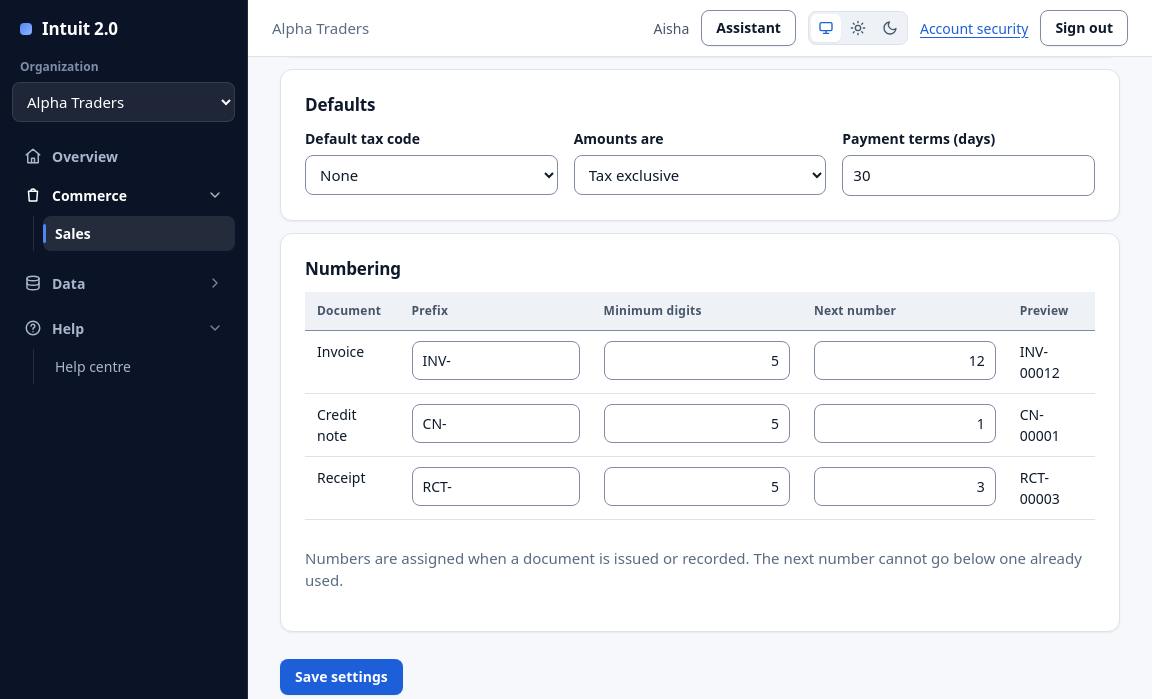
it: Sales settings › saves numbering with numbers and shows a field error from the server
(page scrolled)
Replace the text in the field named "Invoice next number" with "5": coordinates (905, 360) [814, 341, 996, 380]
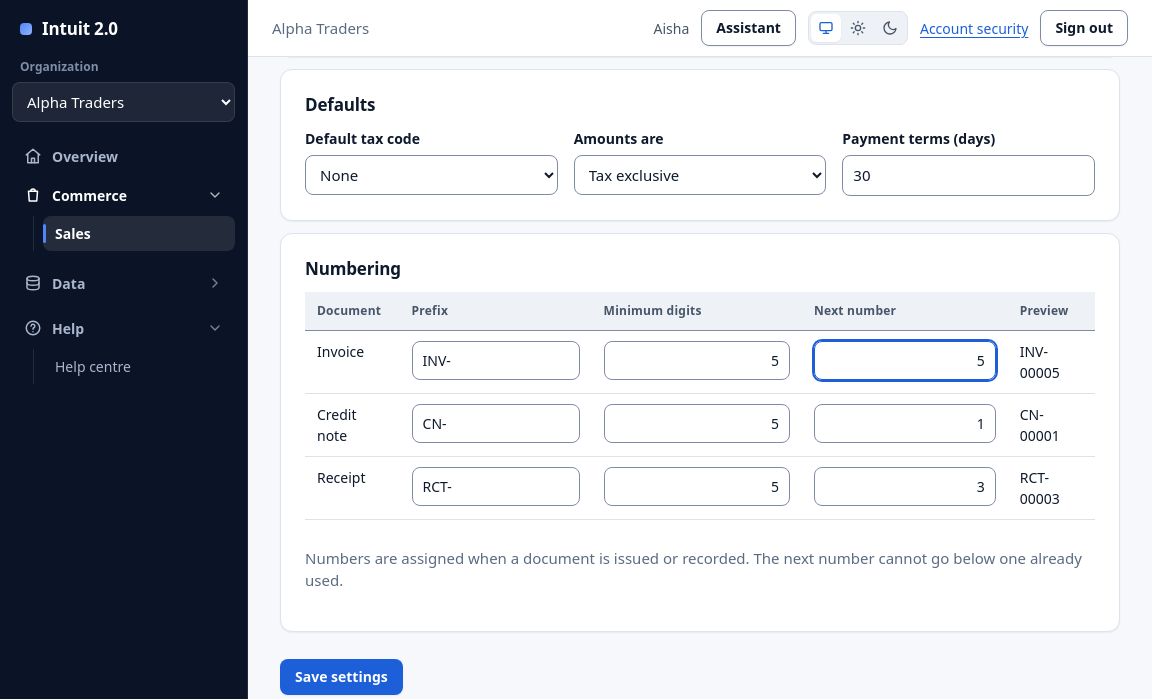
Check: the text "INV-00005" is shown, box [1008, 330, 1095, 394]
Click the button "Save settings": coordinates (341, 677) [280, 659, 403, 695]
(page scrolled)
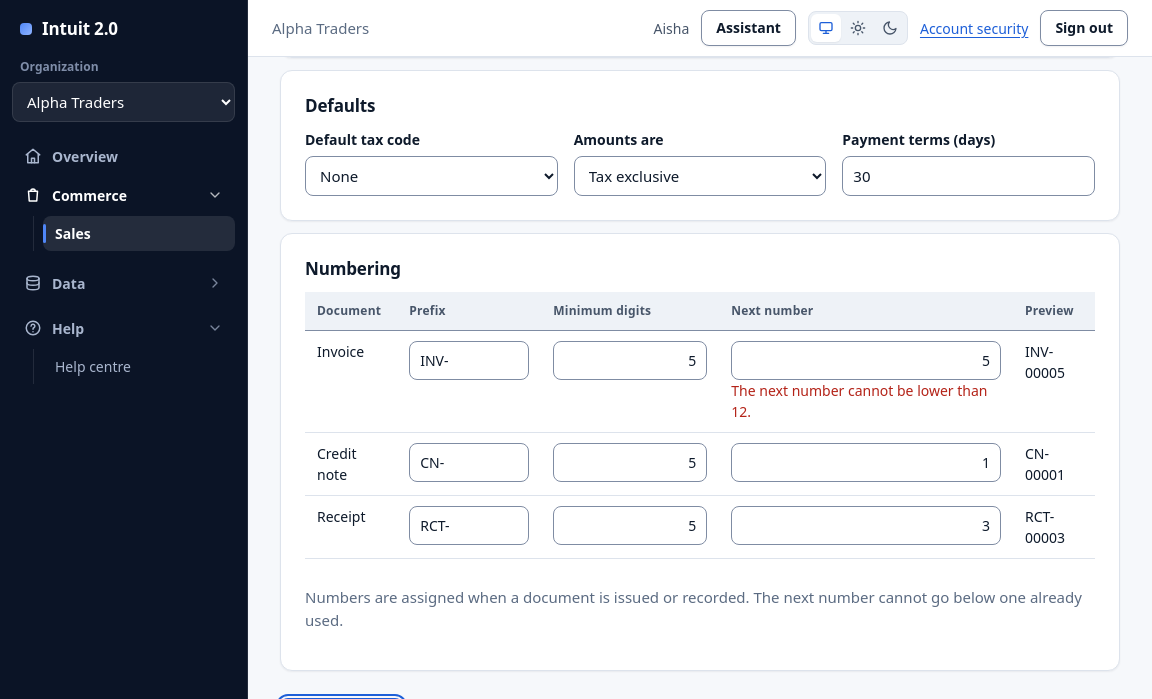
Check: the text "The next number cannot be lower than 12." is shown, box [731, 382, 988, 422]
